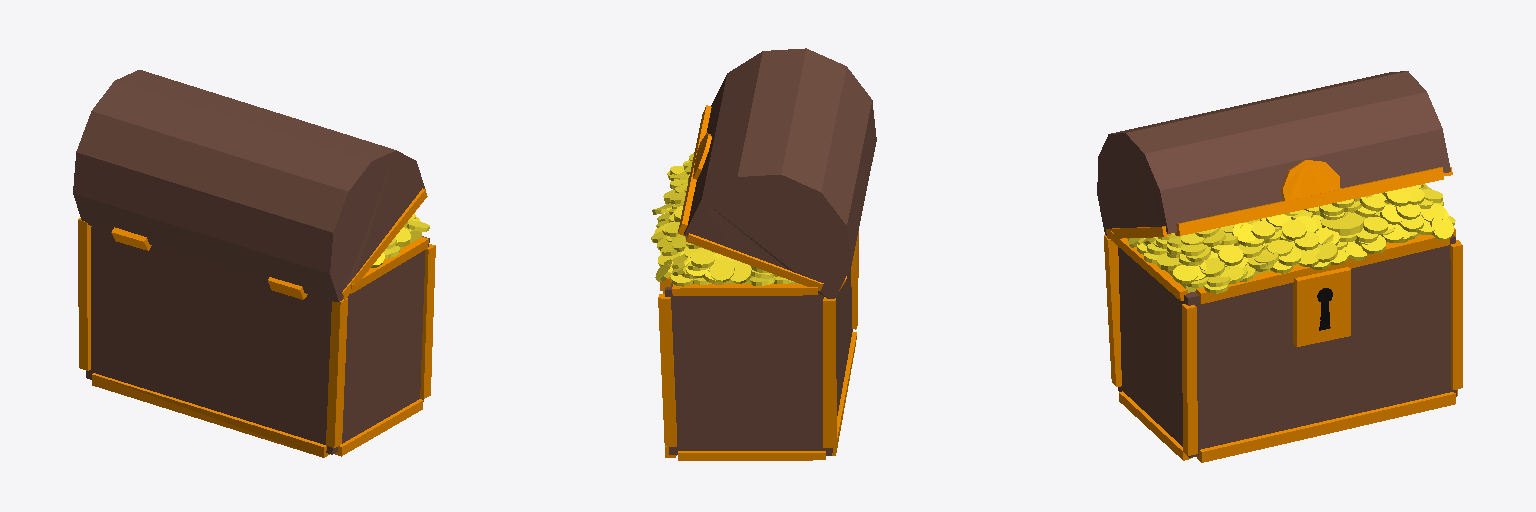
The model's file is Treasure.obj.
The picture shows the model from 3 angles: view 1: azimuth 30°, elevation 25°; view 2: azimuth 150°, elevation 25°; view 3: azimuth 270°, elevation 25°; orthographic projection.
Parts seen in each view (by area): view 1: group[number redacted], group[number redacted], group[number redacted], group[number redacted], group[number redacted], group[number redacted], group[number redacted], group[number redacted], group[number redacted]; view 2: group[number redacted], group[number redacted], group[number redacted], group[number redacted], group[number redacted], group[number redacted], group[number redacted], group[number redacted], group[number redacted], group[number redacted]; view 3: group[number redacted], group[number redacted], group[number redacted], group[number redacted], group[number redacted], group[number redacted], group[number redacted], group[number redacted], group[number redacted], group[number redacted], group[number redacted], group[number redacted] (+2 smaller).
Part boxes in pixels (x1,y1,x2,y2): group[number redacted]: (73,70,424,301); group[number redacted]: (86,226,429,454); group[number redacted]: (92,373,329,457); group[number redacted]: (326,298,347,447); group[number redacted]: (78,218,91,370); group[number redacted]: (420,244,435,398); group[number redacted]: (335,399,423,456); group[number redacted]: (342,188,427,299); group[number redacted]: (350,237,428,293); group[number redacted]: (684,48,876,298); group[number redacted]: (665,268,852,455); group[number redacted]: (823,297,836,447); group[number redacted]: (658,294,676,446); group[number redacted]: (672,284,817,295); group[number redacted]: (678,451,825,460); group[number redacted]: (686,233,823,290); group[number redacted]: (678,105,711,236); group[number redacted]: (832,332,856,455); group[number redacted]: (851,231,858,329); group[number redacted]: (1118,234,1456,457); group[number redacted]: (1097,71,1450,235); group[number redacted]: (1293,267,1350,346); group[number redacted]: (1175,167,1443,235); group[number redacted]: (1197,392,1455,462); group[number redacted]: (1196,235,1450,303); group[number redacted]: (1182,304,1197,455); group[number redacted]: (1450,240,1462,389); group[number redacted]: (1104,235,1121,386); group[number redacted]: (1281,160,1340,201); group[number redacted]: (1111,231,1187,300); group[number redacted]: (1119,391,1190,460).
Bounding box in the file's own units: 0.3611 × 0.3813 × 0.4293.